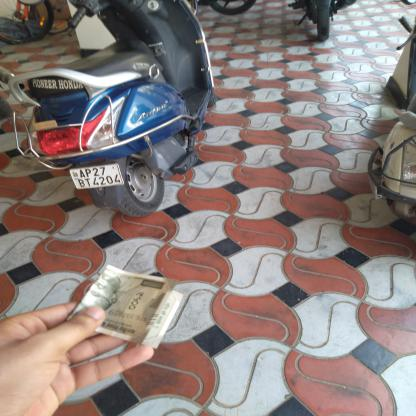New500Front: (73, 268, 169, 340)
